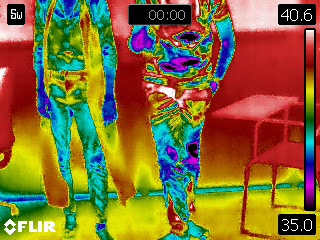human: (140, 2, 240, 240), (38, 2, 117, 239)
